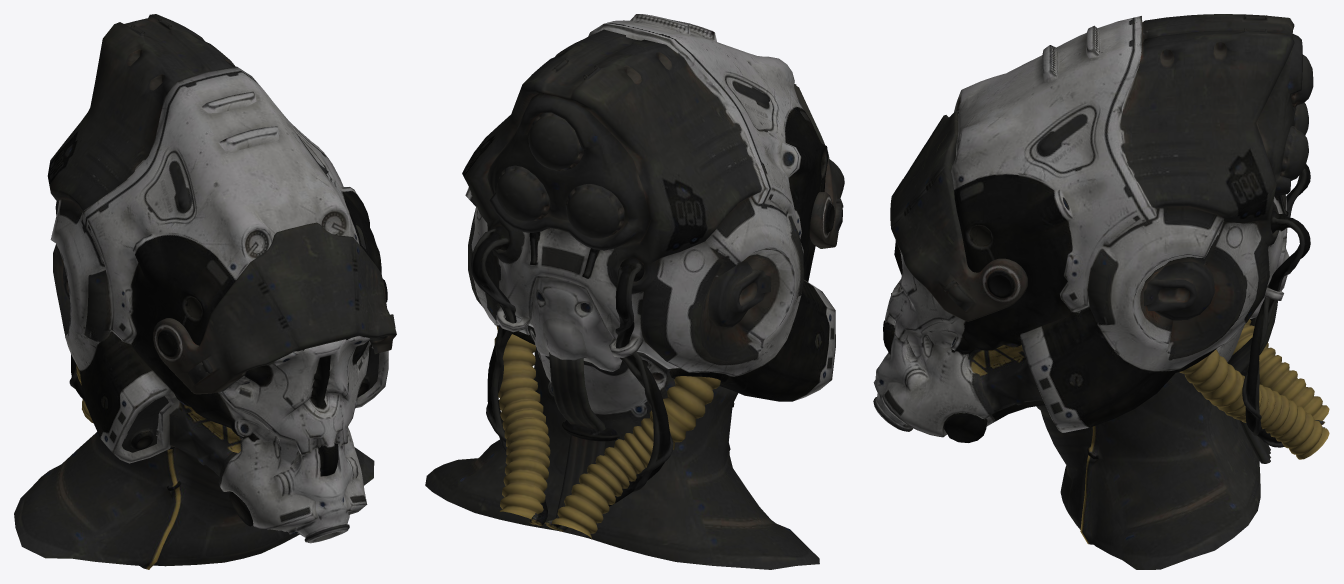
File: scifi-helmet.glb
3 views of the same model, side by side, from view 1: azimuth 30°, elevation 25°; view 2: azimuth 150°, elevation 25°; view 3: azimuth 270°, elevation 25° (orthographic). The views are drawn at different scales.
Parts seen in each view (by area): view 1: SciFiHelmet; view 2: SciFiHelmet; view 3: SciFiHelmet.
Part boxes in pixels (x1,y1,x2,y2): SciFiHelmet: [14, 14, 396, 569]; SciFiHelmet: [425, 14, 844, 569]; SciFiHelmet: [873, 14, 1329, 569].
Size of the model in its own units: 2.3 by 2.92 by 2.5.
1 material, 1 textured.
